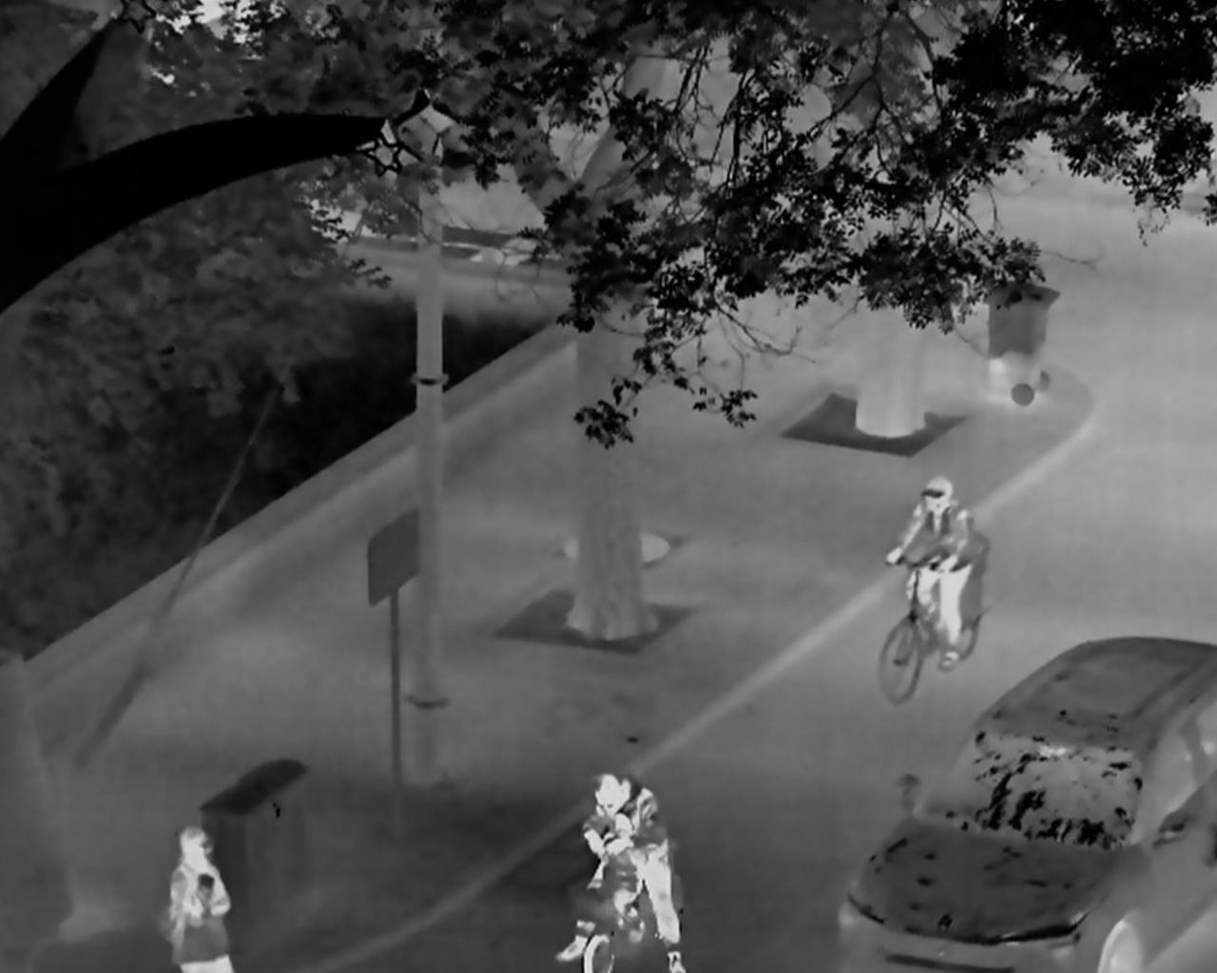person: (553, 772, 690, 973), (889, 476, 974, 674), (155, 825, 238, 973), (600, 814, 647, 944)
